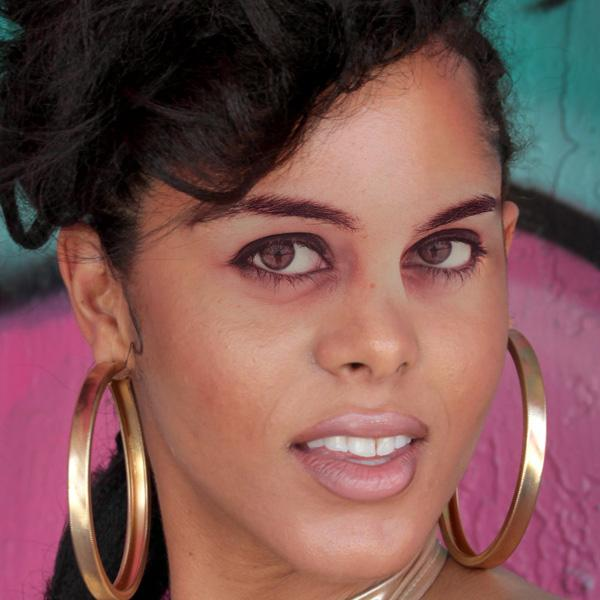Eyes: (216, 217, 341, 295), (387, 218, 489, 289)
